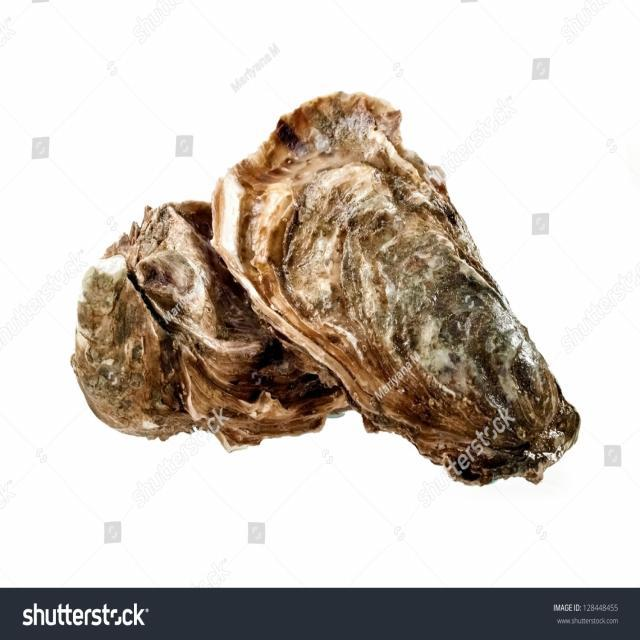Oyster- Indeterminate: (210, 92, 581, 488), (70, 202, 350, 452)
